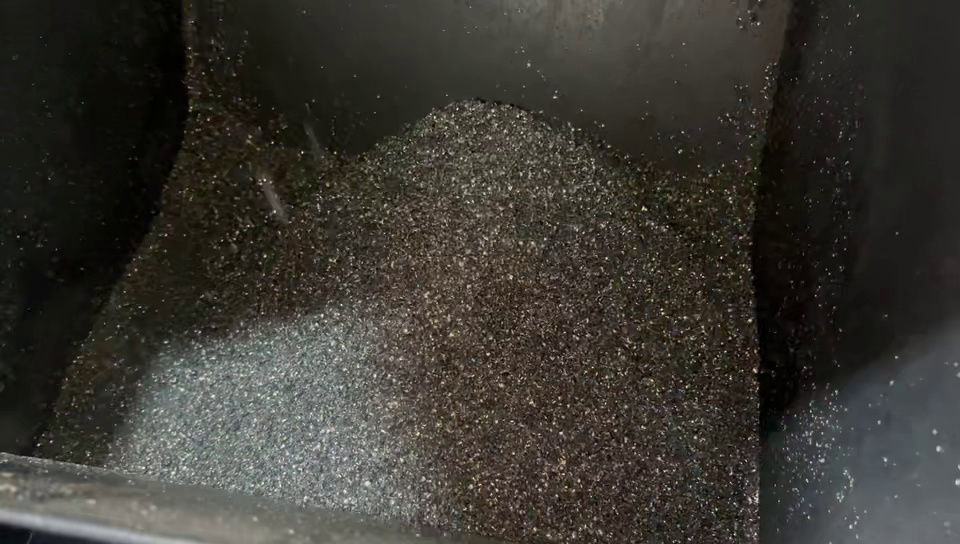iron_scrap: (488, 179, 759, 536), (176, 124, 481, 362), (38, 371, 486, 470)
